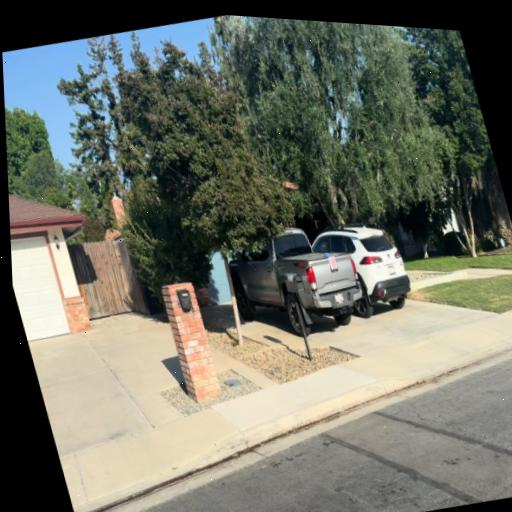bullseye: (329, 256, 338, 269)
